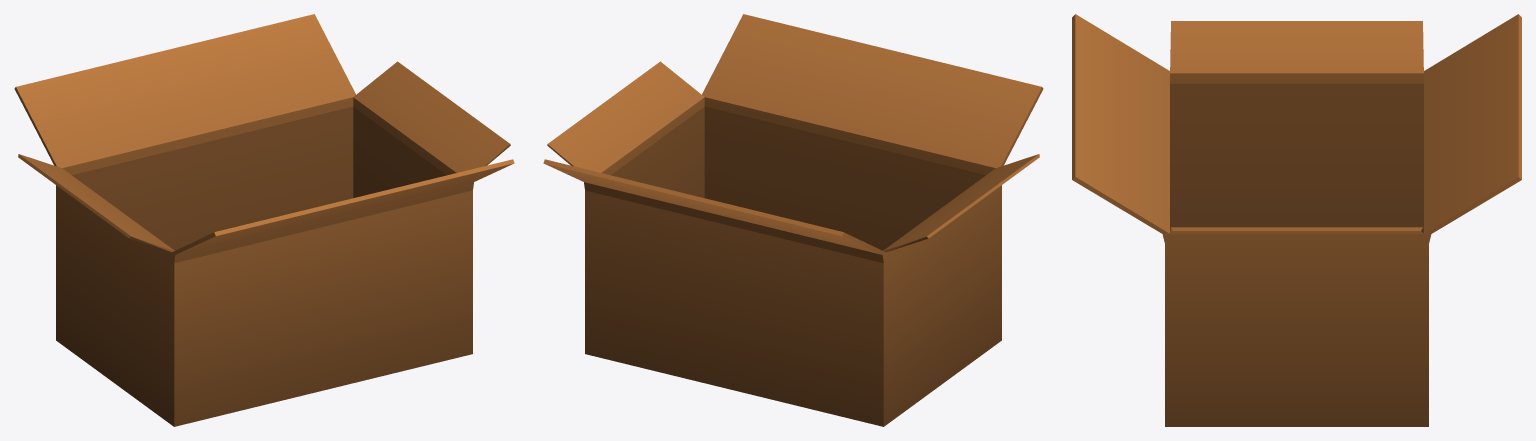
Rendered from Prop_Cardboard_Box_02.obj.
3 views of the same model, side by side, from view 1: azimuth 30°, elevation 25°; view 2: azimuth 150°, elevation 25°; view 3: azimuth 270°, elevation 25° (orthographic). The views are drawn at different scales.
Parts seen in each view (by area): view 1: Prop_Cardboard_Box_02; view 2: Prop_Cardboard_Box_02; view 3: Prop_Cardboard_Box_02.
Part boxes in pixels (x1,y1,x2,y2): Prop_Cardboard_Box_02: [14, 14, 514, 426]; Prop_Cardboard_Box_02: [543, 14, 1043, 426]; Prop_Cardboard_Box_02: [1072, 14, 1521, 426].
Size of the model in its own units: 0.9322 by 0.5235 by 0.8526.
Materials: 1 (1 with a texture image).
